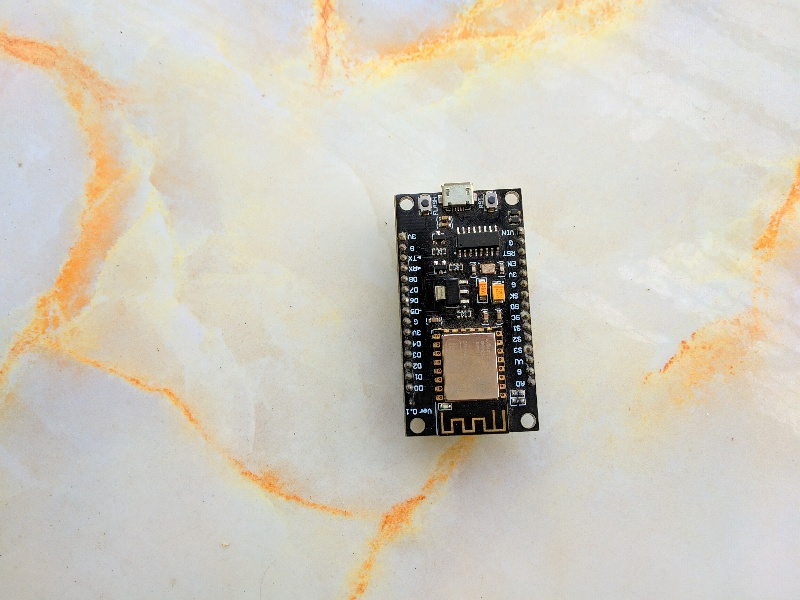NodeMCU: (382, 173, 549, 454)
